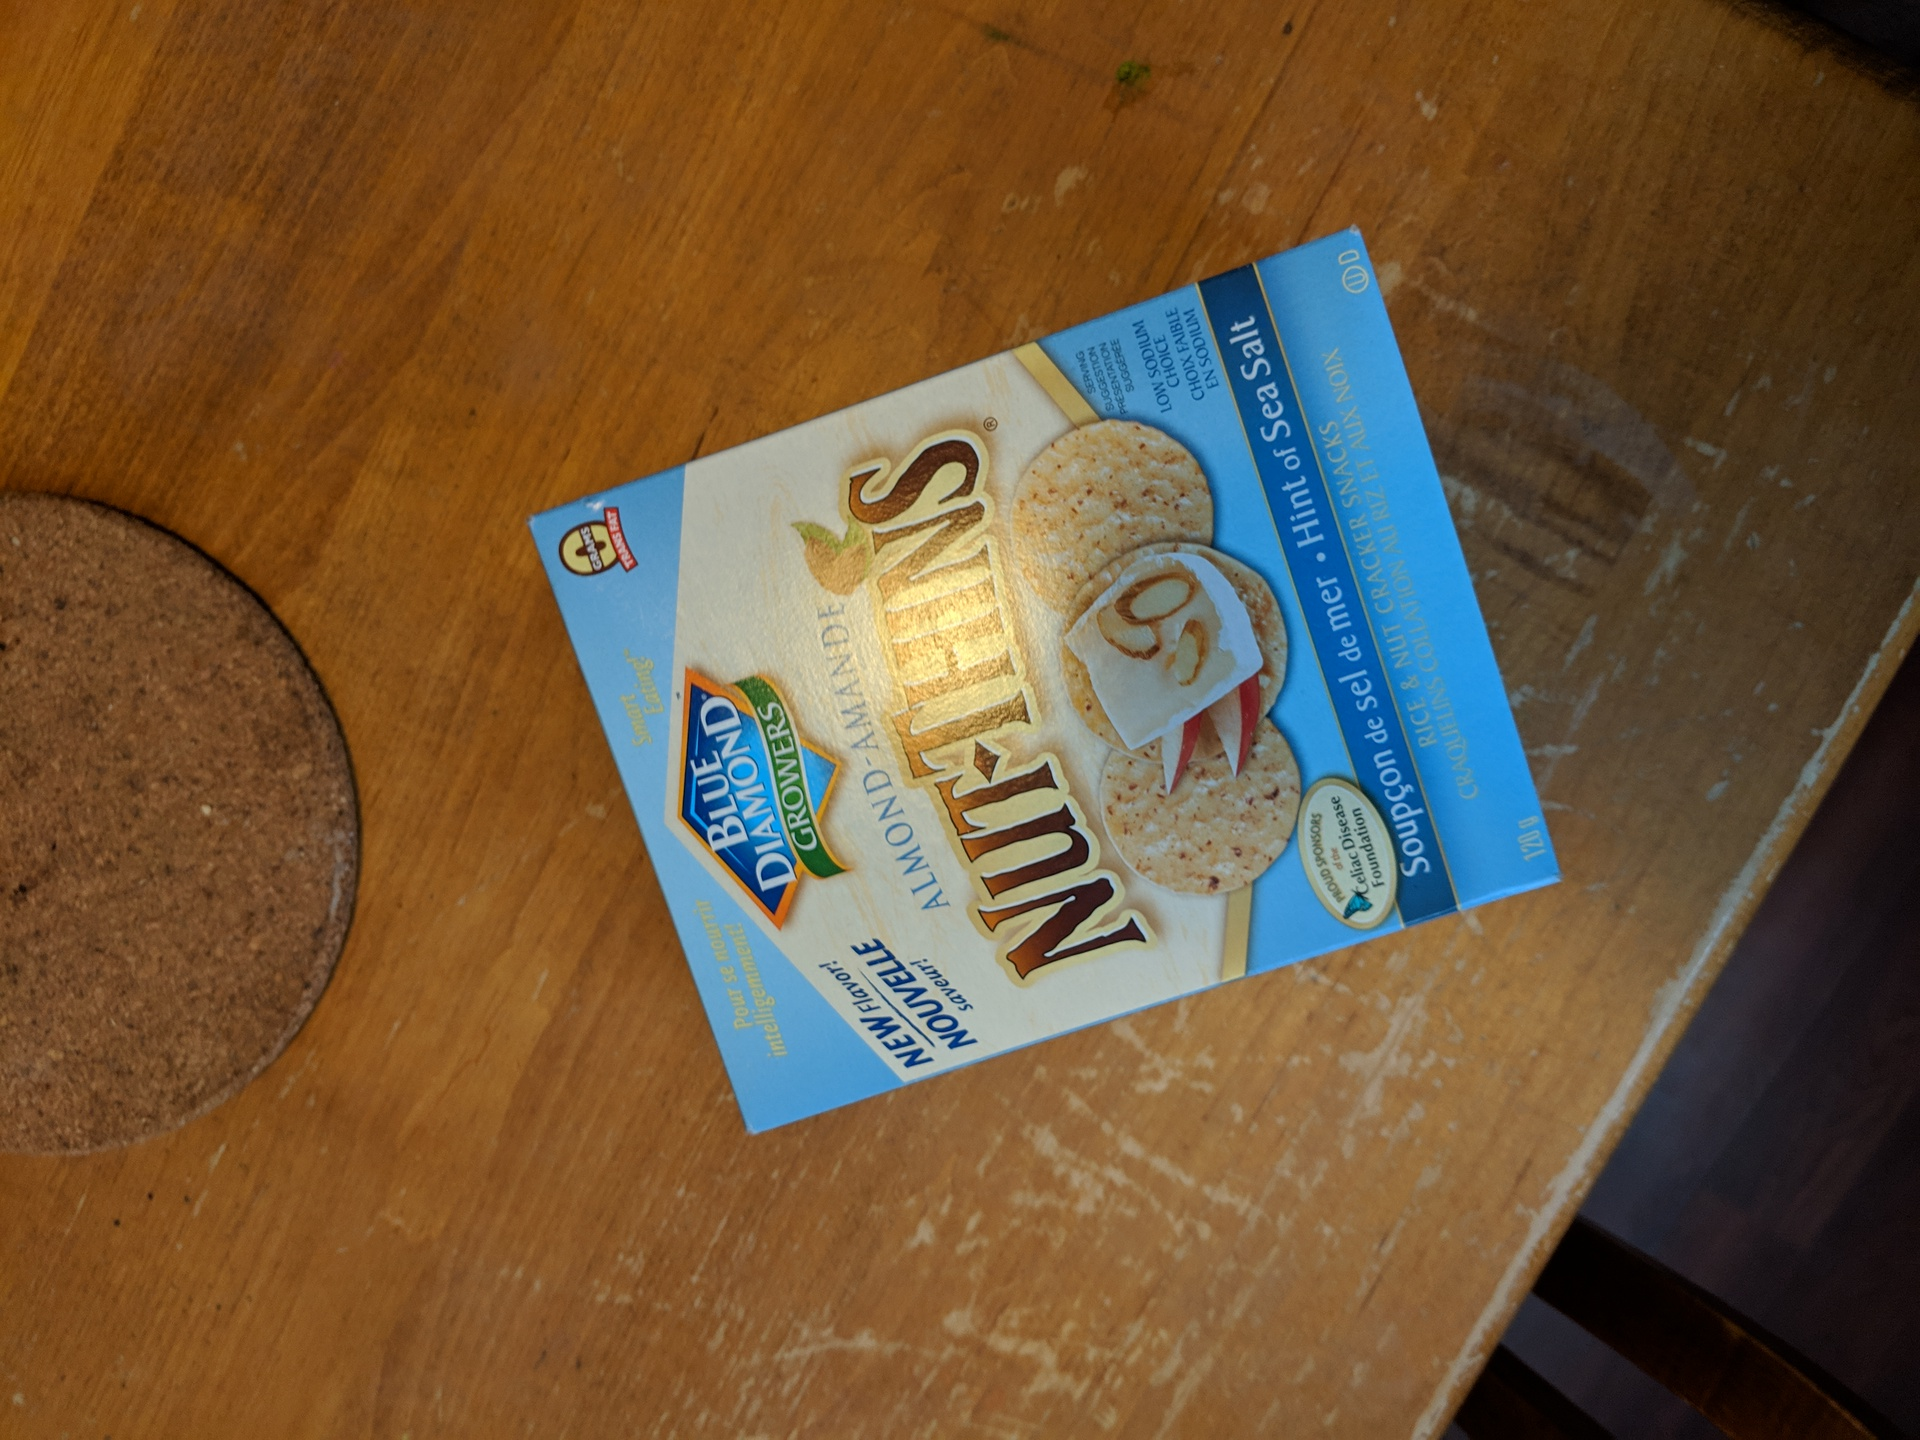blue_diamond_nut_thins_almond_seasalt: (559, 303, 1473, 1078)
